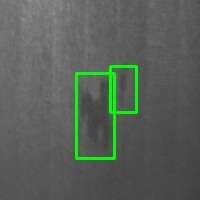inclusion: (76, 73, 114, 158), (110, 66, 136, 112)
